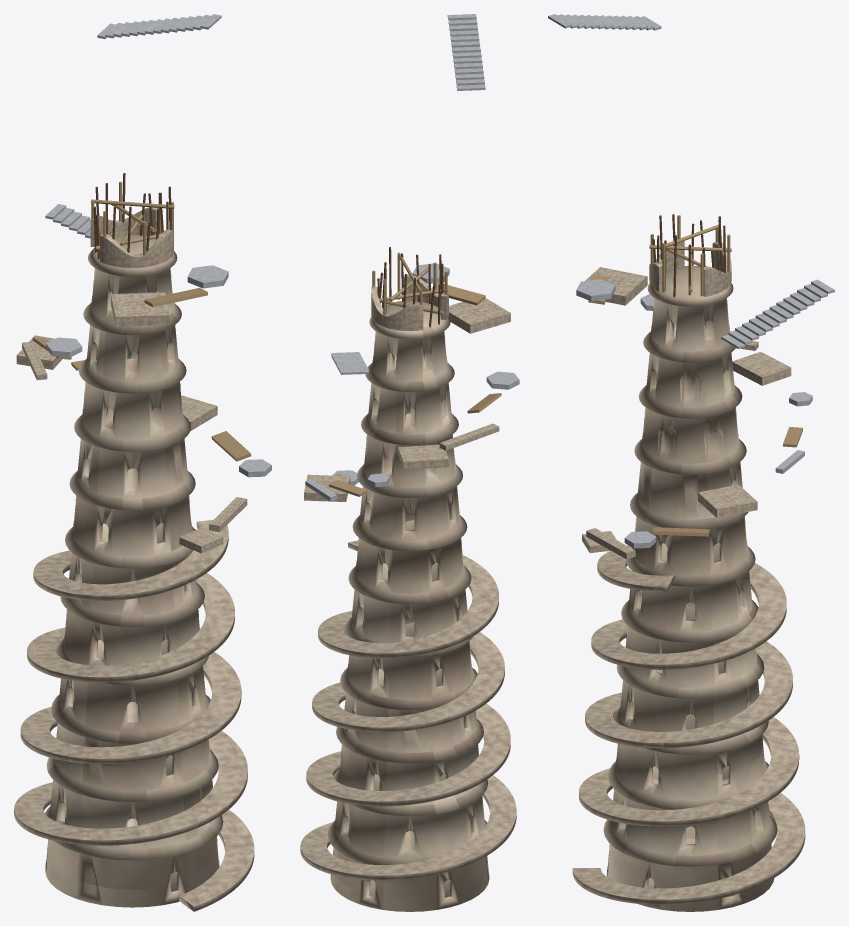
File: BabelTower.glb
3 renders of one model, left to right at view 1: azimuth 30°, elevation 25°; view 2: azimuth 150°, elevation 25°; view 3: azimuth 270°, elevation 25°, orthographic. The views are drawn at different scales.
Visible parts, largest first — view 1: BabelTower, BabelRamp, BabelRampVisual, Stone_Slab_14, PartialWall.001, Step_13, PartialWall, Step_05, Stone_Slab_04, Stone_Hex_16, Stone_Slab_00, Plank_03 (+4 smaller); view 2: BabelTower, BabelRamp, BabelRampVisual, Step_13, Stone_Slab_14, PartialWall, Stone_Slab_09, Stone_Slab_04, Step_05, PartialWall.001, Ledge_Beam_10, Plank_15 (+1 smaller); view 3: BabelTower, BabelRamp, BabelRampVisual, Step_05, Stone_Slab_04, Step_13, Stone_Slab_09, Stone_Slab_14, PartialWall, PartialWall.001, Stone_Hex_16, Ledge_Beam_01.
Part boxes in pixels (bbox=[...]): BabelTower: bbox=[45, 234, 223, 907]; BabelRamp: bbox=[14, 519, 254, 906]; BabelRampVisual: bbox=[14, 522, 254, 911]; Stone_Slab_14: bbox=[111, 292, 169, 326]; PartialWall.001: bbox=[100, 229, 172, 267]; Step_13: bbox=[97, 14, 221, 38]; PartialWall: bbox=[90, 207, 158, 246]; Step_05: bbox=[45, 204, 90, 238]; Stone_Slab_04: bbox=[181, 395, 217, 430]; Stone_Hex_16: bbox=[187, 265, 228, 288]; Stone_Slab_00: bbox=[179, 528, 223, 553]; Plank_03: bbox=[211, 431, 251, 461]; BabelTower: bbox=[327, 301, 489, 911]; BabelRamp: bbox=[300, 540, 516, 875]; BabelRampVisual: bbox=[300, 543, 516, 880]; Step_13: bbox=[447, 14, 485, 90]; Stone_Slab_14: bbox=[448, 298, 510, 333]; PartialWall: bbox=[371, 286, 423, 330]; Stone_Slab_09: bbox=[398, 444, 448, 469]; Stone_Slab_04: bbox=[304, 474, 349, 501]; Step_05: bbox=[331, 352, 368, 374]; PartialWall.001: bbox=[403, 274, 448, 320]; Ledge_Beam_10: bbox=[439, 423, 499, 450]; Plank_15: bbox=[432, 282, 485, 305]; BabelTower: bbox=[603, 265, 777, 911]; BabelRamp: bbox=[572, 545, 805, 899]; BabelRampVisual: bbox=[572, 562, 805, 904]; Step_05: bbox=[721, 279, 834, 348]; Stone_Slab_04: bbox=[698, 484, 757, 517]; Step_13: bbox=[548, 14, 661, 30]; Stone_Slab_09: bbox=[732, 351, 791, 385]; Stone_Slab_14: bbox=[585, 267, 647, 305]; PartialWall: bbox=[703, 242, 731, 296]; PartialWall.001: bbox=[649, 241, 684, 291]; Stone_Hex_16: bbox=[576, 279, 615, 301]; Ledge_Beam_01: bbox=[586, 528, 635, 559].
Size of the model in its own units: 12.58 by 50.88 by 15.35.
4 materials, 4 textured.
